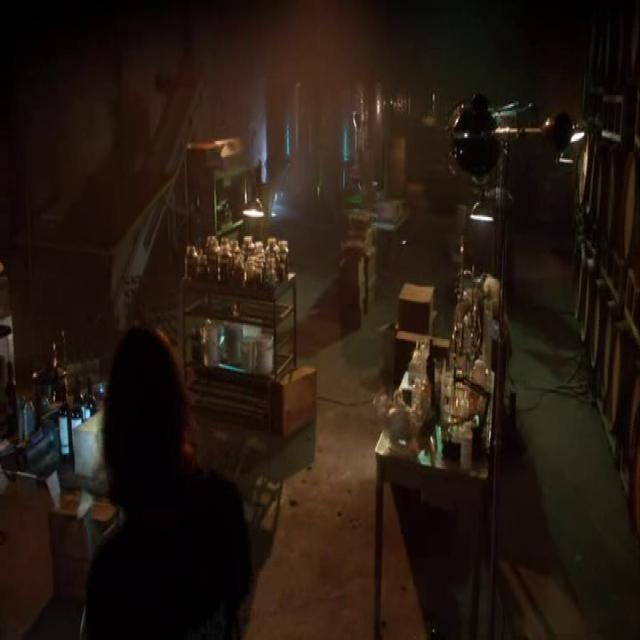People: (92, 318, 247, 640)
Table: (369, 299, 517, 640), (174, 239, 320, 358), (186, 145, 254, 237)
